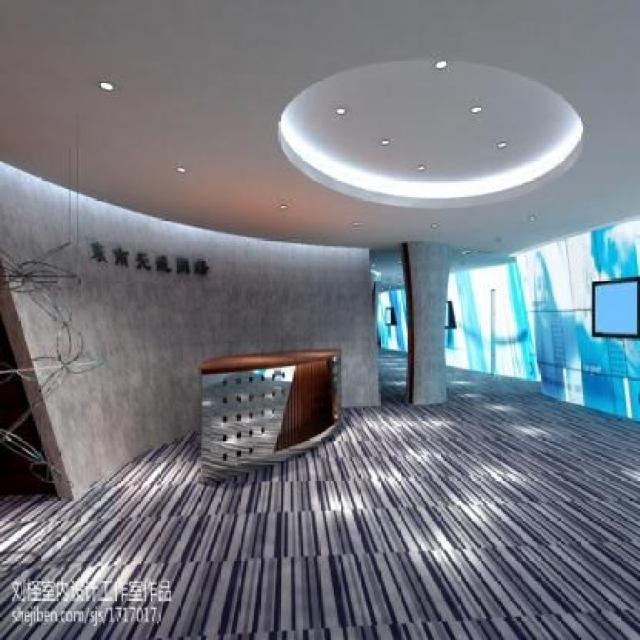frontdesk: (191, 337, 351, 465)
